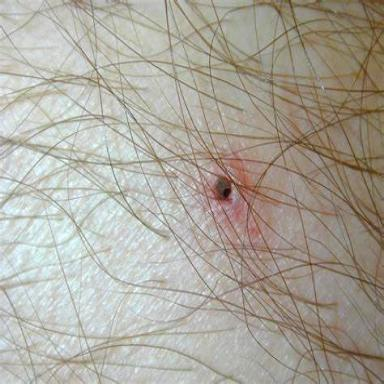Tungiasis: (203, 150, 259, 240)
